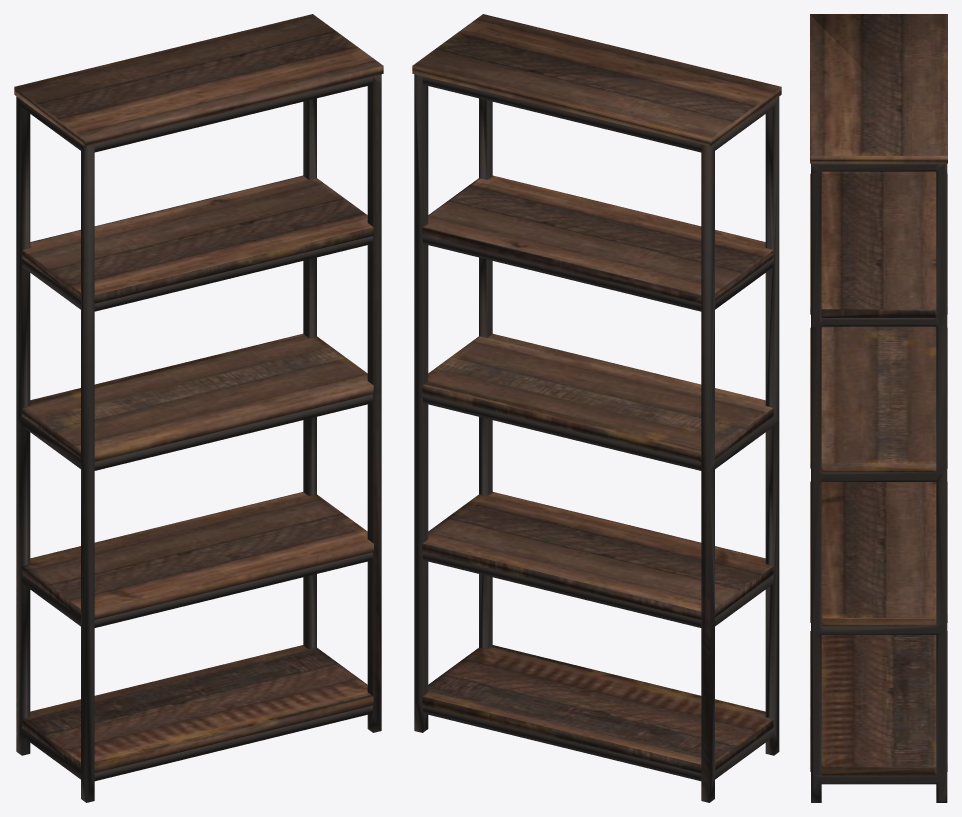
3 views of the same model, side by side, from view 1: azimuth 30°, elevation 25°; view 2: azimuth 150°, elevation 25°; view 3: azimuth 270°, elevation 25° (orthographic). The views are drawn at different scales.
Visible parts, largest first — view 1: RootNode; view 2: RootNode; view 3: RootNode.
Part boxes in pixels (x1,y1,x2,y2): RootNode: (14,14,383,802); RootNode: (412,14,781,802); RootNode: (810,14,947,802).
Size of the model in its own units: 0.8738 by 1.86 by 0.3587.
Materials: 1 (1 with a texture image).
